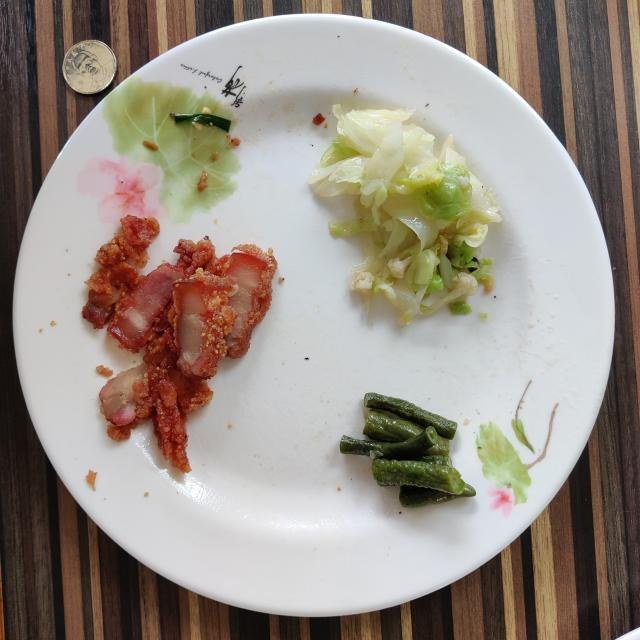cabbage: (309, 104, 501, 324)
coin: (62, 40, 116, 94)
red grilled pork: (82, 215, 278, 472)
